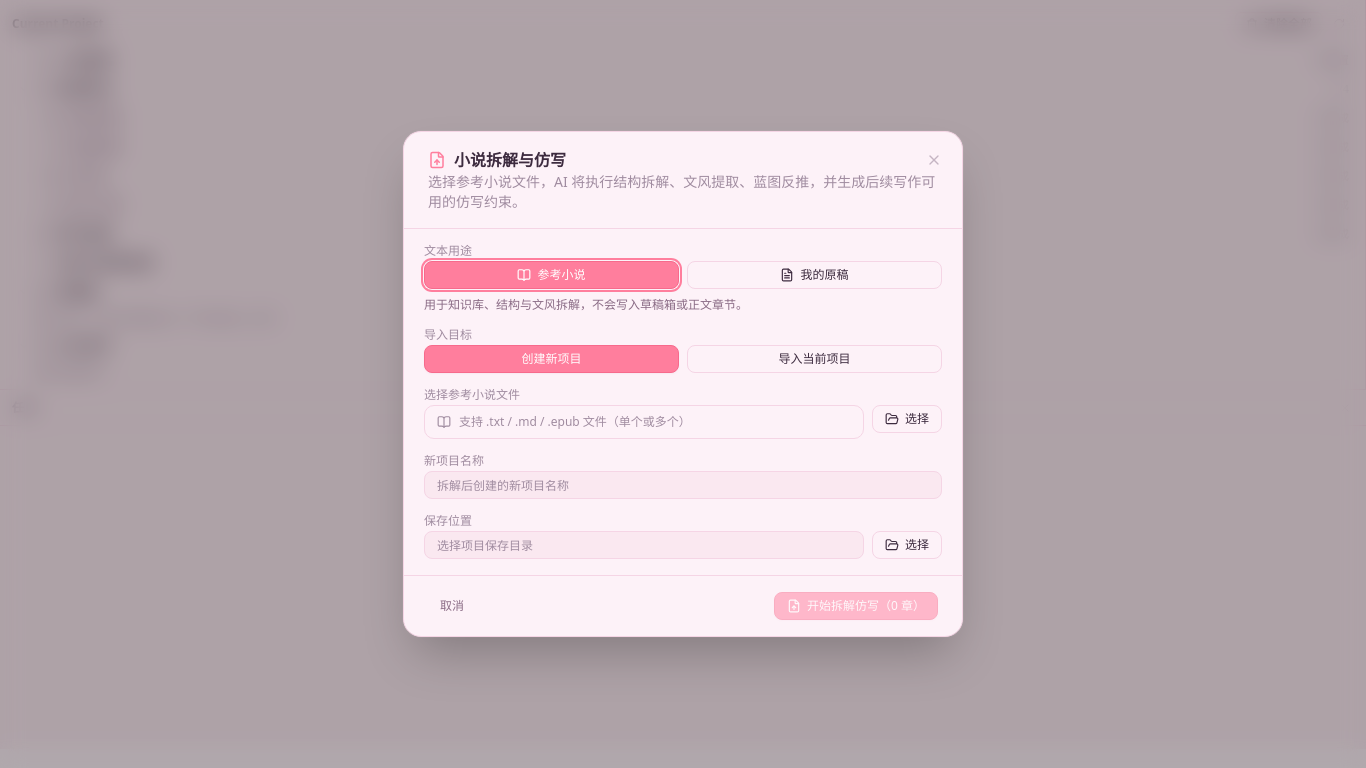
current-project reference import › blocks a non-contiguous author manifest with an actionable first missing chapter
Click the button with test id "import-purpose-author".
click(814, 275)  # box [687,261,942,289]
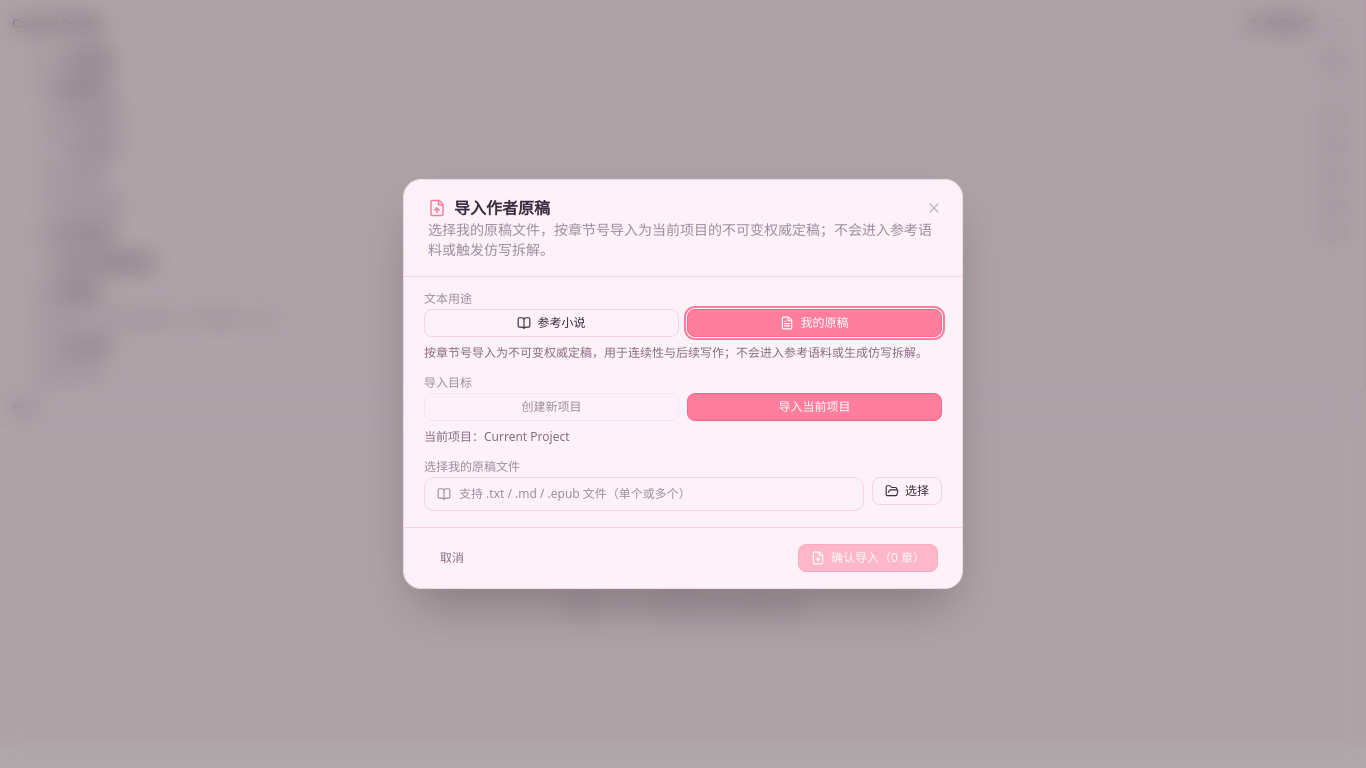
Click the button with test id "import-source-choose".
click(907, 491)  # box [872,477,942,505]
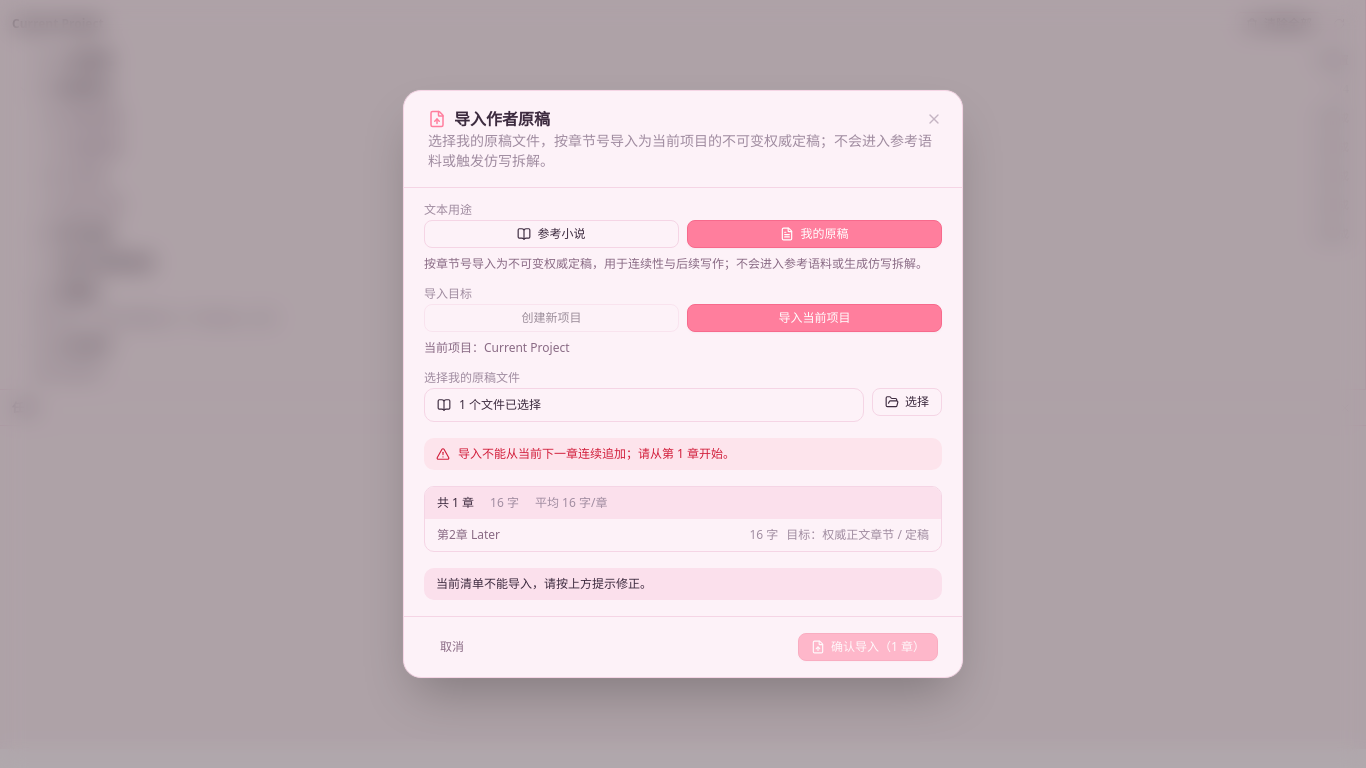
Expected: the button "确认导入（1 章）" is disabled, [798,633,938,661]
Now the text "导入不能从当前下一章连续追加；请从第 1 章开始。" is shown, box [424,438,942,470]
